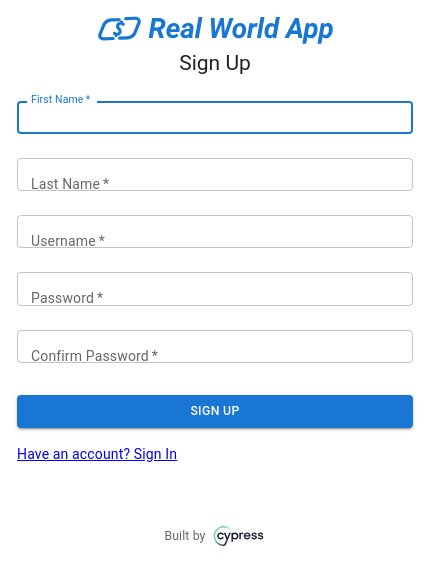
it: Testes de Login e Registro com Fixture › Deve exibir erro ao registrar com informações incompletas
Type "João" into the field with id "firstName".
click(215, 118); type("João")  # box x1=17 y1=101 x2=413 y2=134
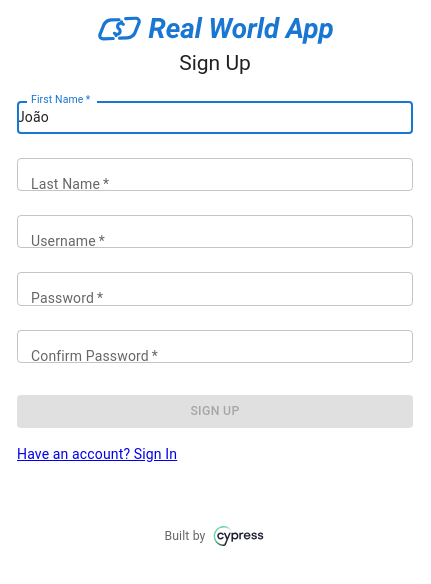
Type "Silva" into the field with id "lastName".
click(215, 175); type("Silva")  # box x1=17 y1=158 x2=413 y2=191
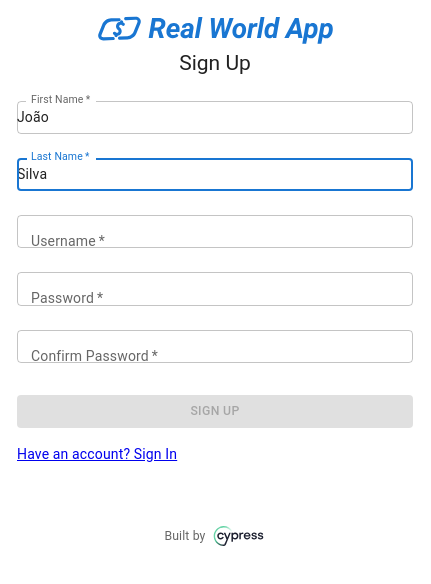
Type "s3cret" into the password field labelled "Password *".
click(215, 289); type("s3cret")  # box x1=17 y1=272 x2=413 y2=305
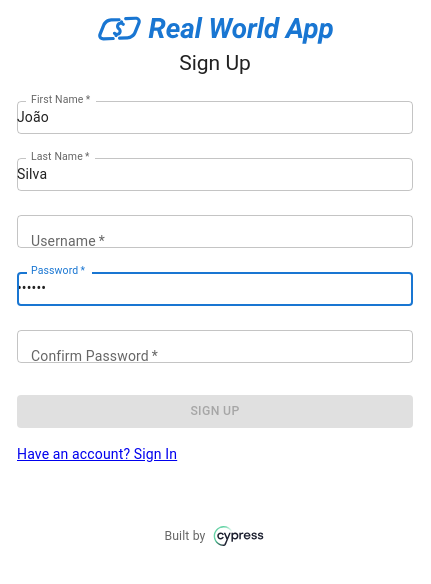
Type "Test" into the password field with id "confirmPassword".
click(215, 347); type("Test")  # box x1=17 y1=330 x2=413 y2=363
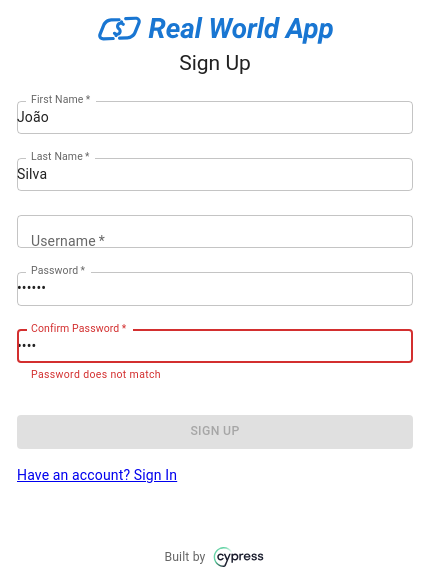
expect the text "Password does not match" is shown: met, box x1=31 y1=368 x2=161 y2=381
